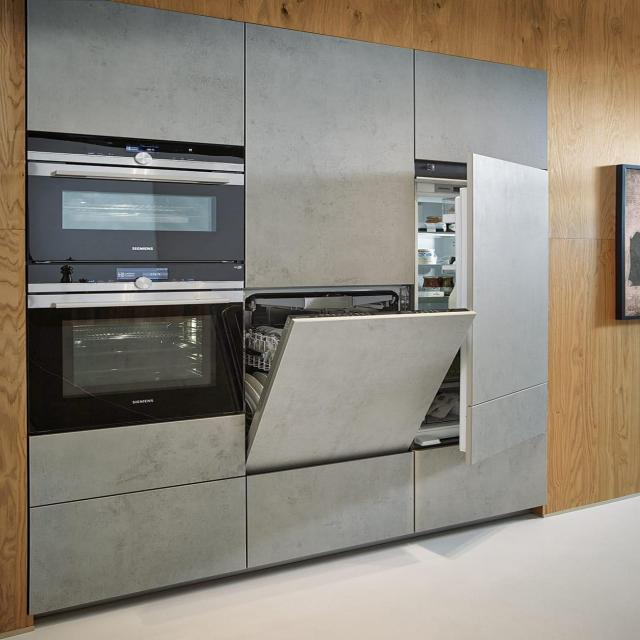dishwasher: (215, 250, 480, 502)
